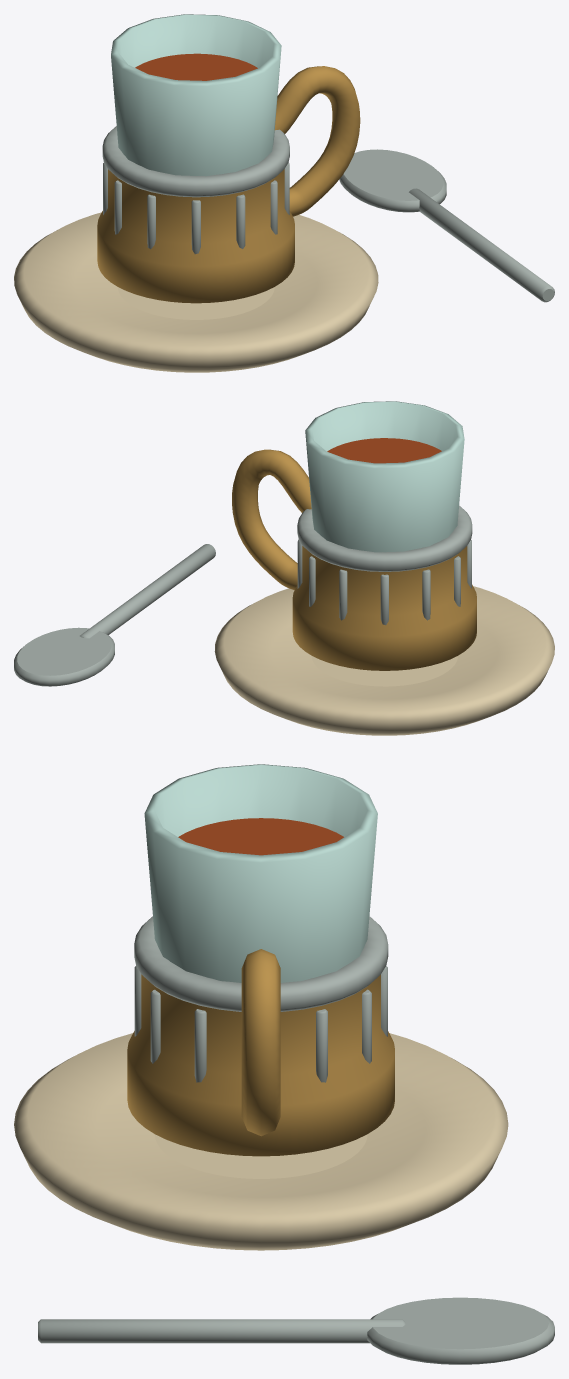
Rendered from TeaSet.fbx.
The picture shows the model from 3 angles, top to bottom: view 1: azimuth 30°, elevation 25°; view 2: azimuth 150°, elevation 25°; view 3: azimuth 270°, elevation 25°; orthographic projection. The views are drawn at different scales.
Parts seen in each view (by area): view 1: Lathed saucer, Faceted glass, Brass cup cradle, Cast cup handle, Cup holder rim, Spoon bowl, Spoon handle, Tea fill, Holder flute.008, Holder flute.009, Holder flute.007; view 2: Lathed saucer, Faceted glass, Brass cup cradle, Cast cup handle, Spoon bowl, Cup holder rim, Spoon handle, Tea fill, Holder flute.004, Holder flute.005, Holder flute.003; view 3: Lathed saucer, Faceted glass, Brass cup cradle, Spoon bowl, Spoon handle, Cup holder rim, Cast cup handle, Tea fill, Holder flute.011, Holder flute.001, Holder flute.010.
Part boxes in pixels (x1,y1,x2,y2): Lathed saucer: (14, 212, 378, 372); Faceted glass: (111, 14, 281, 176); Brass cup cradle: (97, 169, 294, 303); Cast cup handle: (274, 66, 360, 216); Cup holder rim: (102, 126, 289, 197); Spoon bowl: (339, 149, 446, 212); Spoon handle: (409, 188, 554, 302); Tea fill: (135, 53, 257, 80); Holder flute.008: (191, 200, 200, 254); Holder flute.009: (236, 194, 245, 248); Holder flute.007: (147, 194, 155, 249); Lathed saucer: (214, 586, 554, 735); Faceted glass: (305, 401, 464, 552); Brass cup cradle: (292, 546, 476, 670); Cast cup handle: (232, 449, 311, 589); Spoon bowl: (14, 627, 114, 686); Cup holder rim: (297, 505, 472, 571); Spoon handle: (80, 544, 215, 638); Tea fill: (327, 438, 441, 463); Holder flute.004: (380, 574, 388, 625); Holder flute.005: (422, 569, 430, 620); Holder flute.003: (339, 569, 347, 620); Lathed saucer: (14, 1033, 508, 1250); Faceted glass: (144, 764, 377, 982); Brass cup cradle: (127, 974, 394, 1156); Spoon bowl: (367, 1297, 554, 1364); Spoon handle: (38, 1319, 405, 1343); Cup holder rim: (134, 916, 388, 1011); Cast cup handle: (241, 949, 280, 1136); Tea fill: (178, 818, 343, 855); Holder flute.011: (194, 1009, 206, 1082); Holder flute.001: (316, 1009, 327, 1082); Holder flute.010: (150, 989, 160, 1063).
Bounding box in the file's own units: 0.214 × 0.114 × 0.1575.
